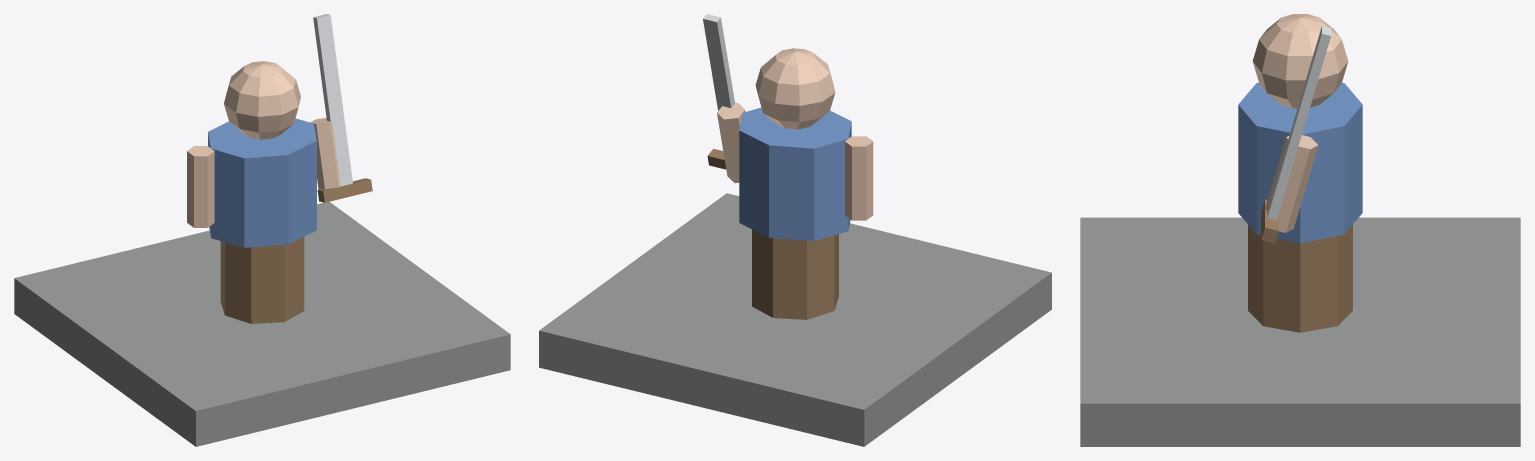
The model's file is human_swordsman.glb.
The picture shows the model from 3 angles, left to right: view 1: azimuth 30°, elevation 25°; view 2: azimuth 150°, elevation 25°; view 3: azimuth 270°, elevation 25°; orthographic projection. The views are drawn at different scales.
Visible parts, largest first — view 1: Base, Torso, Legs, Head, Blade, ArmL, ArmR, Guard; view 2: Base, Torso, Legs, Head, ArmL, Blade, ArmR; view 3: Base, Torso, Legs, Head, Blade, ArmR, Guard.
Part boxes in pixels (<box>): Base: <box>14,201,510,446</box>; Torso: <box>208,118,316,247</box>; Legs: <box>220,237,304,323</box>; Head: <box>224,61,300,139</box>; Blade: <box>313,14,352,186</box>; ArmL: <box>187,146,214,227</box>; ArmR: <box>310,118,340,189</box>; Guard: <box>317,178,372,202</box>; Base: <box>539,193,1051,446</box>; Torso: <box>739,107,851,241</box>; Legs: <box>752,229,838,319</box>; Head: <box>755,48,835,129</box>; ArmL: <box>845,136,873,220</box>; Blade: <box>703,14,735,110</box>; ArmR: <box>717,102,745,183</box>; Base: <box>1080,217,1520,446</box>; Torso: <box>1238,82,1362,243</box>; Legs: <box>1248,225,1352,332</box>; Head: <box>1252,14,1348,108</box>; Blade: <box>1267,26,1331,220</box>; ArmR: <box>1265,135,1318,232</box>; Guard: <box>1261,199,1278,243</box>.
Bounding box in the file's own units: 1.84 × 1.69 × 1.84.
